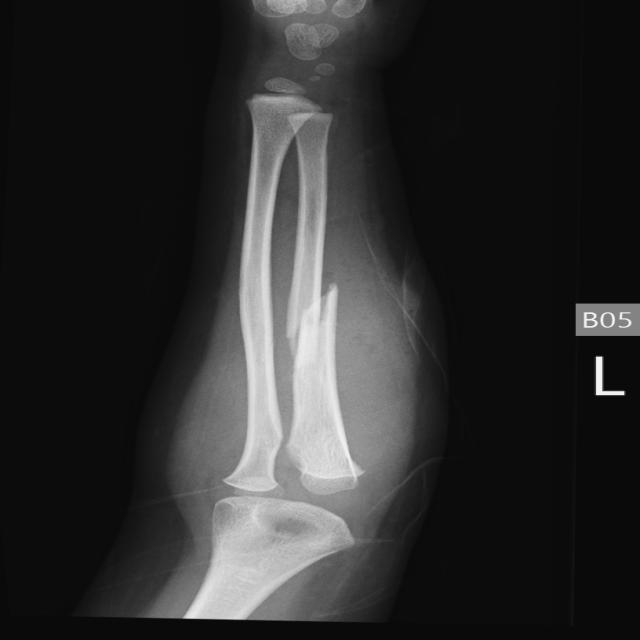fractured: (265, 265, 360, 374)
